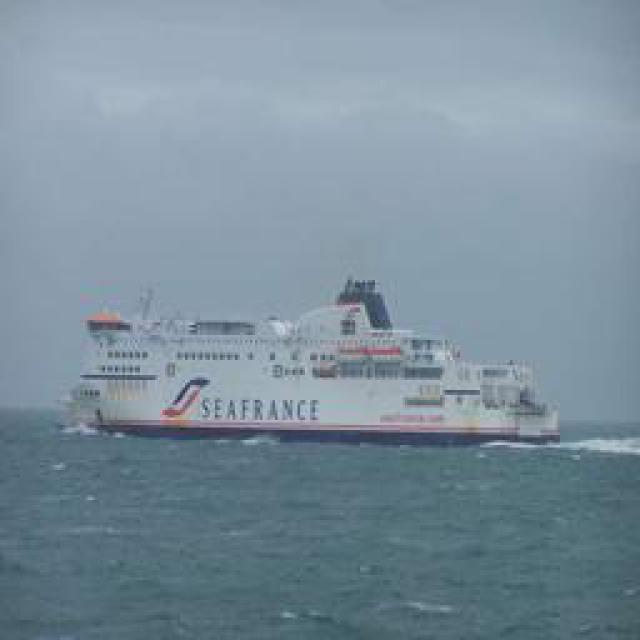Ship: (69, 271, 559, 446)
